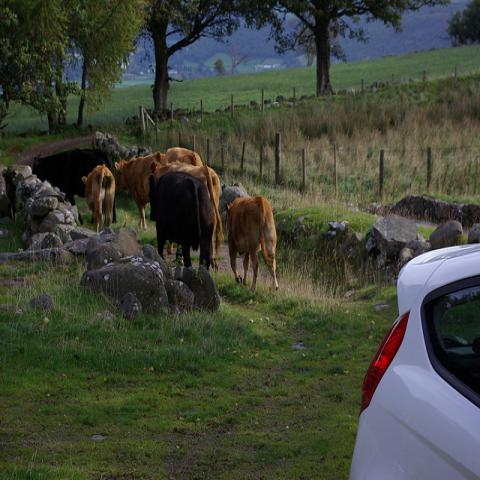car: (348, 241, 479, 476)
